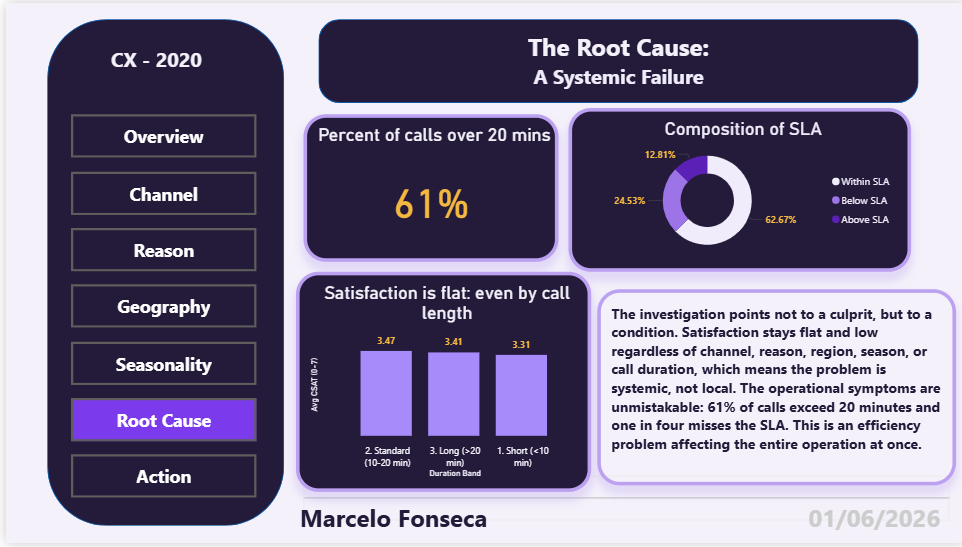

The dashboard page shown, as its layout file describes it:
{"tool":"powerbi","page":{"name":"Root Cause","canvas":[1280,720],"ordinal":7},"visuals":[{"type":"shape","box":[54.4,21.1,315.8,675.4],"z":0},{"type":"textbox","box":[135.5,50.9,149.1,57.9],"z":1000},{"type":"shape","box":[416.7,21.7,800,111.7],"z":2000},{"type":"textbox","box":[438.3,31.7,756.7,95],"z":3000},{"type":"shape","box":[396.5,629.8,861.4,59.6],"z":4000},{"type":"textbox","box":[386,659.6,300,59.6],"z":5000},{"type":"textbox","box":[1064.9,659.6,193,59.6],"z":6000},{"type":"actionButton","title":"Overview","box":[86.4,149.1,247.4,57.9],"z":7000},{"type":"actionButton","box":[86.4,224.6,247.4,57.9],"z":8000},{"type":"actionButton","box":[86.4,300,247.4,57.9],"z":9000},{"type":"actionButton","box":[86.4,375.4,247.4,57.9],"z":10000},{"type":"actionButton","box":[86.4,450.9,247.4,57.9],"z":11000},{"type":"actionButton","box":[86.4,526.3,247.4,57.9],"z":12000},{"type":"actionButton","box":[86.4,601.8,247.4,57.9],"z":13000},{"type":"card","title":"Percent of calls over 20 mins","fields":{"Values":["Call Center Data.% Long Calls"]},"box":[396.7,148.3,340,196.7],"z":13001},{"type":"donutChart","title":"Composition of SLA","fields":{"Y":["CountNonNull(Call Center Data.Response Time)"],"Category":["Call Center Data.Response Time"]},"box":[750,140,456.7,218.3],"z":13002},{"type":"columnChart","title":"Satisfaction is flat: even by call length","fields":{"Category":["Call Center Data.Duration Band"],"Y":["Avg(Call Center Data.CSAT Score)"]},"box":[386.7,358.3,393.3,293.3],"z":13003},{"type":"textbox","box":[788.3,381.7,478.3,261.7],"z":13004}]}

Visuals, with their boxes in screenshot pixels (x1, y1, x2, y2), scaled from the page's 1280x720 canvas onto the 962x547 screenshot:
shape: select_region(41, 16, 278, 529)
textbox: select_region(102, 39, 214, 83)
shape: select_region(313, 16, 914, 101)
textbox: select_region(329, 24, 898, 96)
shape: select_region(298, 478, 945, 524)
textbox: select_region(290, 501, 516, 546)
textbox: select_region(800, 501, 945, 546)
"Overview" actionButton: select_region(65, 113, 251, 157)
actionButton: select_region(65, 171, 251, 215)
actionButton: select_region(65, 228, 251, 272)
actionButton: select_region(65, 285, 251, 329)
actionButton: select_region(65, 343, 251, 387)
actionButton: select_region(65, 400, 251, 444)
actionButton: select_region(65, 457, 251, 501)
"Percent of calls over 20 mins" card: select_region(298, 113, 554, 262)
"Composition of SLA" donutChart: select_region(564, 106, 907, 272)
"Satisfaction is flat: even by call length" columnChart: select_region(291, 272, 586, 495)
textbox: select_region(592, 290, 952, 489)
